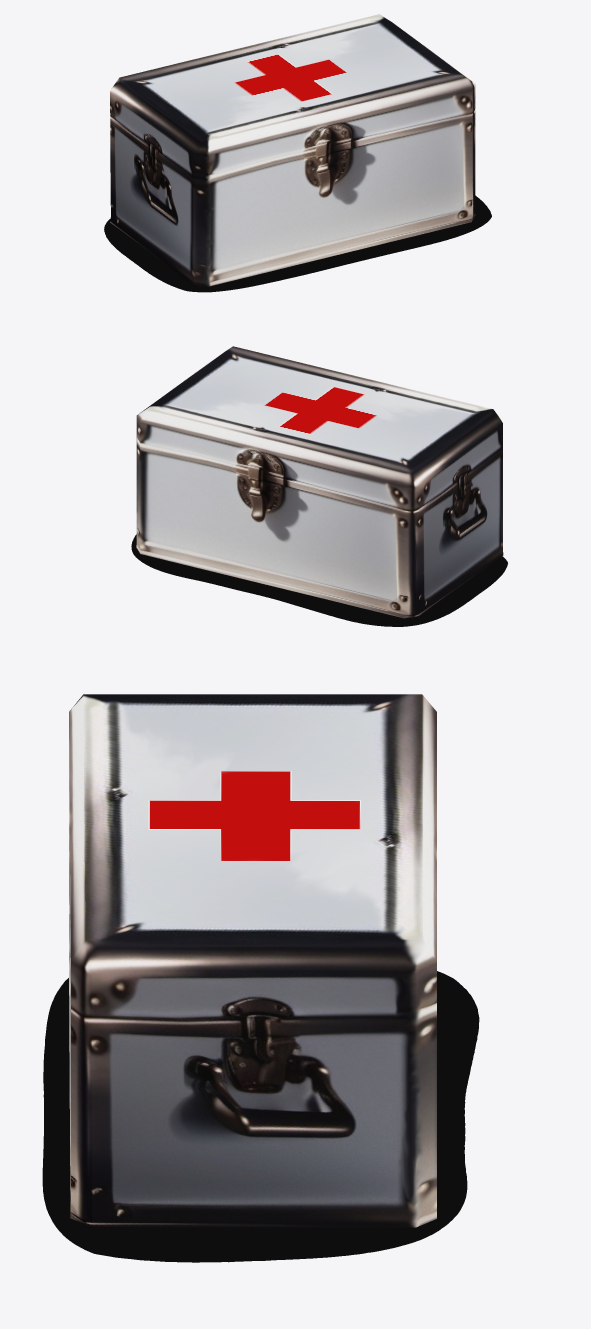
The model's file is Fakb.fbx.
The picture shows the model from 3 angles, top to bottom: view 1: azimuth 30°, elevation 25°; view 2: azimuth 150°, elevation 25°; view 3: azimuth 270°, elevation 25°; orthographic projection. The views are drawn at different scales.
Visible parts, largest first — view 1: fakb, fakb.001; view 2: fakb, fakb.001; view 3: fakb, fakb.001.
Boxes of the visible parts, left/top/right/bottom form: fakb: left=110, top=14, right=475, bottom=286; fakb.001: left=104, top=195, right=491, bottom=292; fakb: left=136, top=346, right=503, bottom=618; fakb.001: left=131, top=534, right=507, bottom=626; fakb: left=69, top=694, right=436, bottom=1227; fakb.001: left=42, top=971, right=479, bottom=1262.
Bounding box in the file's own units: 509 × 172 × 306.
